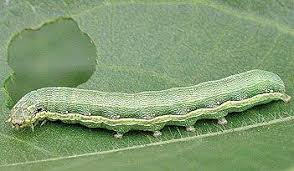Armyworm: (11, 81, 290, 139)
